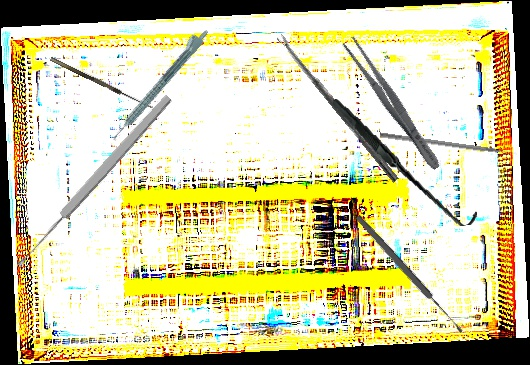Dressing Forceps: (339, 34, 446, 174)
Handpiece: (105, 24, 211, 143)
Hook Surgical: (332, 85, 479, 239), (49, 51, 157, 111), (379, 132, 518, 158)
Surgical Spoon: (13, 92, 174, 270), (276, 33, 400, 183), (354, 213, 465, 336)
